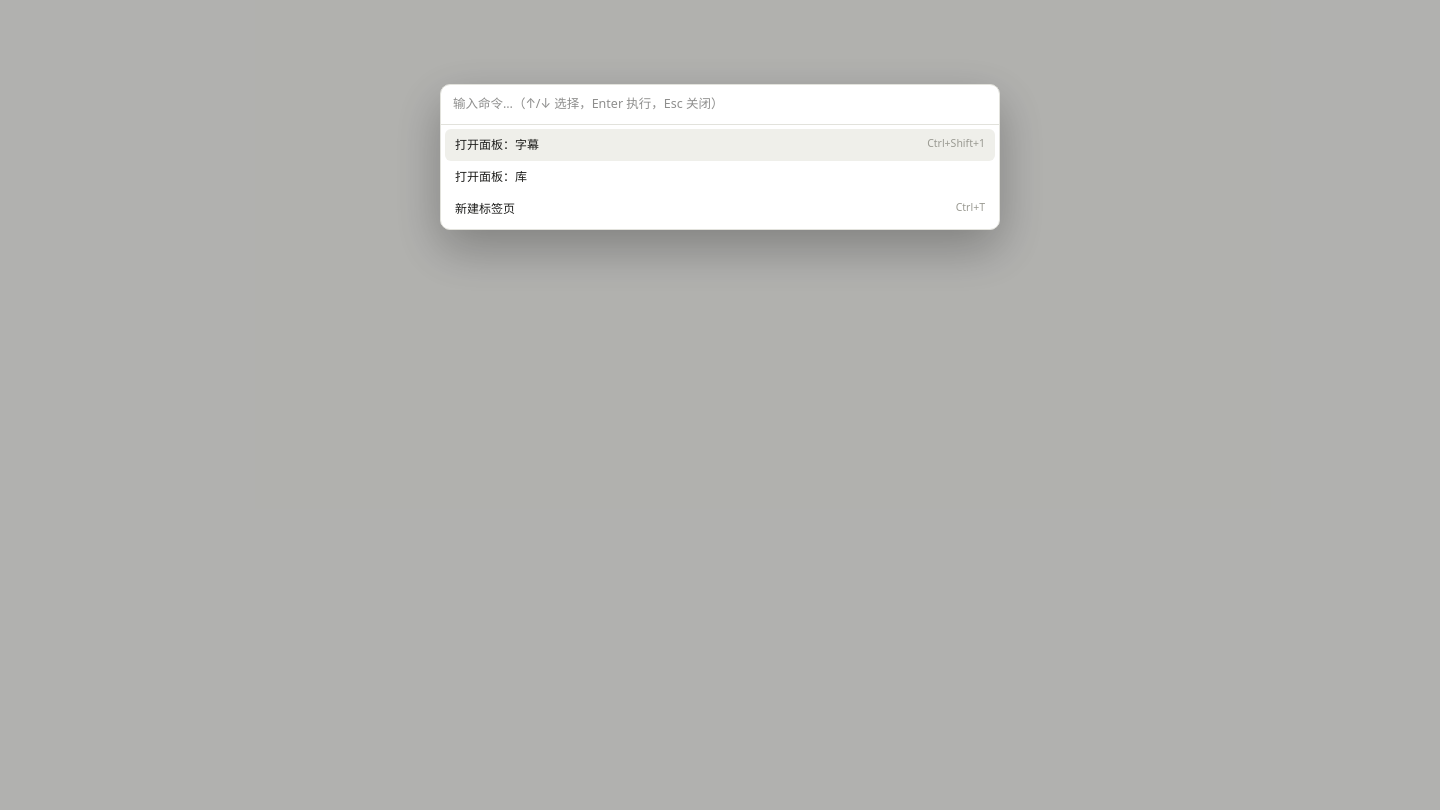
Test case: CommandPalette › 输入过滤命令
Expected: the text "打开面板：库" is shown, [455,168,527,186]
Step 1. Type "标签" into the field with placeholder "输入命令…（↑/↓ 选择，Enter 执行，Esc 关闭）" → (720,105), box [441,85,999,125]
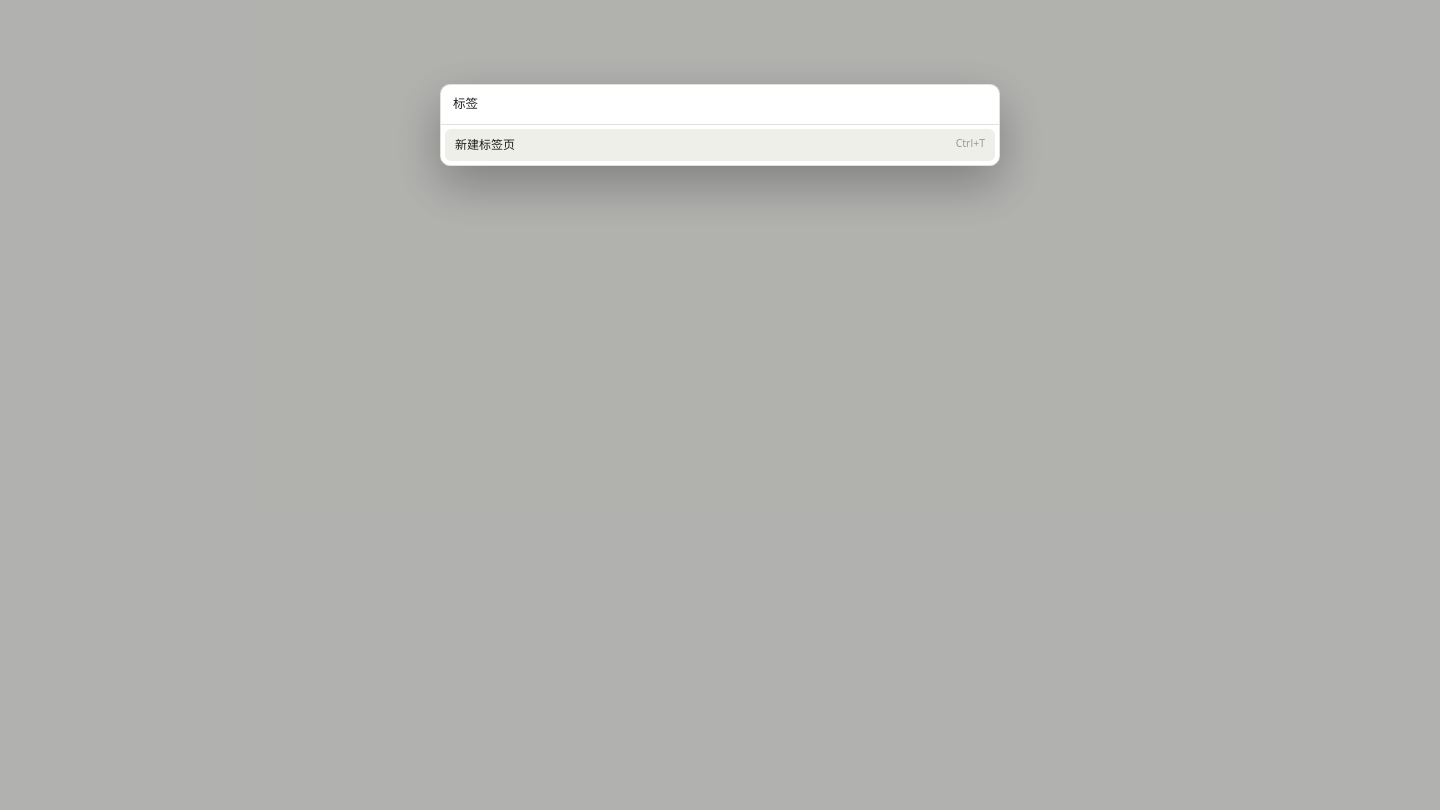
Expected: the text "新建标签页" is shown, [455,136,515,154]
Expected: the button "打开面板：库" is gone
